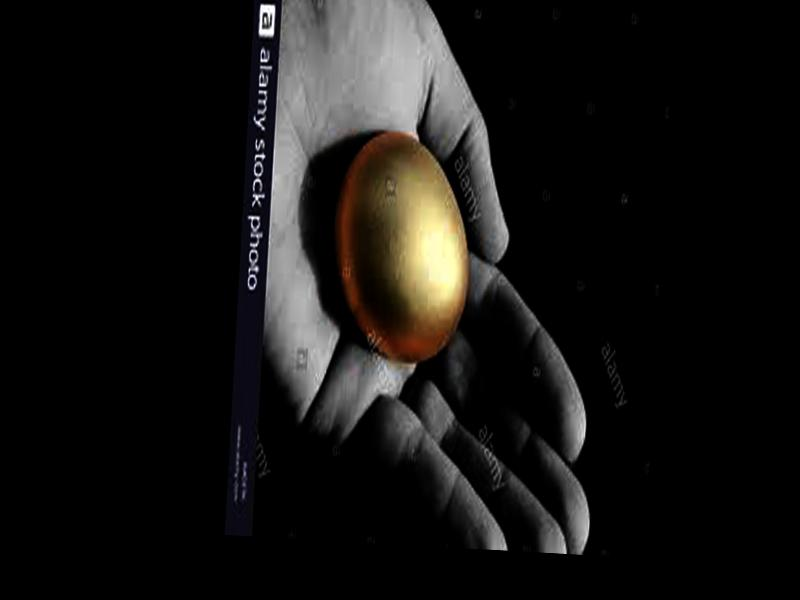Eggs: (329, 131, 475, 366)
